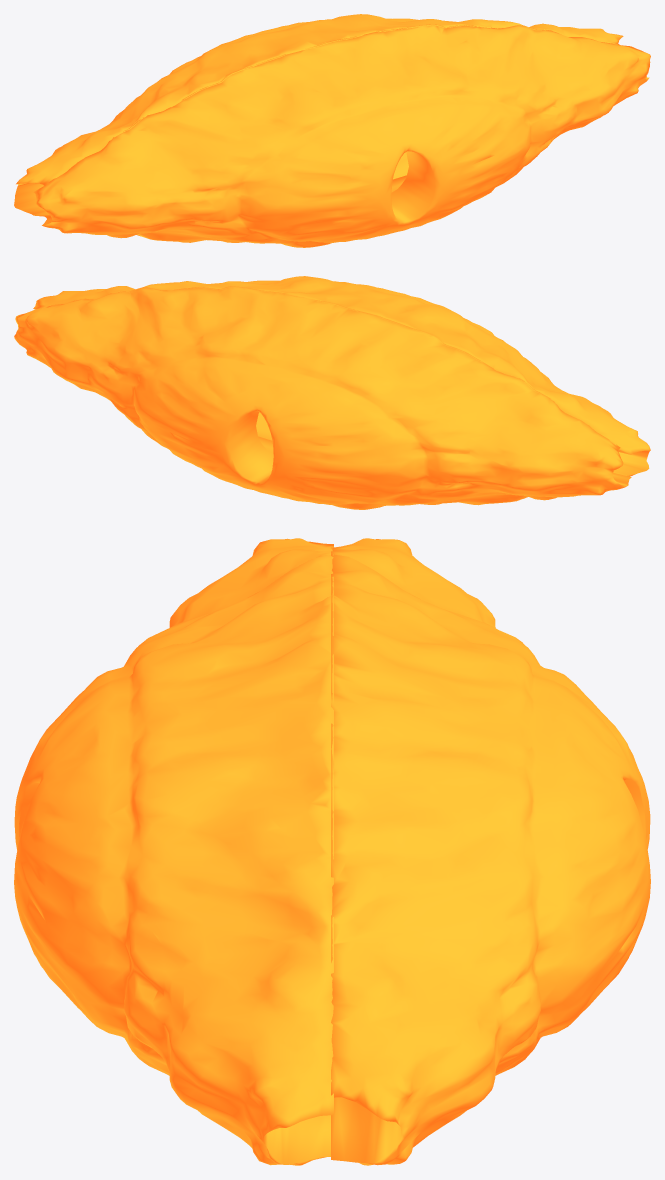
Rendered from oeil.glb.
3 renders of one model, top to bottom at view 1: azimuth 30°, elevation 25°; view 2: azimuth 150°, elevation 25°; view 3: azimuth 270°, elevation 25°, orthographic. The views are drawn at different scales.
Visible parts, largest first — view 1: Oeil; view 2: Oeil; view 3: Oeil.
Part boxes in pixels (x1,y1,x2,y2): Oeil: [14, 14, 650, 247]; Oeil: [14, 276, 650, 509]; Oeil: [14, 538, 650, 1165].
Bounding box in the file's own units: 1.32 × 0.3682 × 0.6049.
